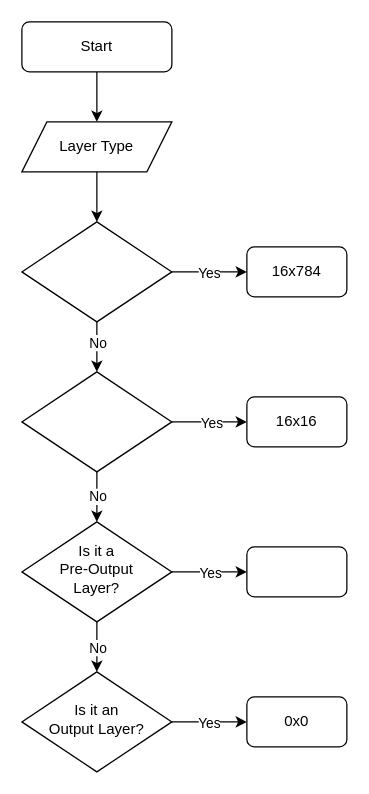
This 369x794 diagram has some shape labels left out. The shapes that lost their labels are listed below. From the top down, each one's centre as x and y in pixels, then its label:
pixel 96 271: Is it an Input Layer?
pixel 96 421: Is it a Hidden Layer?
pixel 296 571: 10x16
